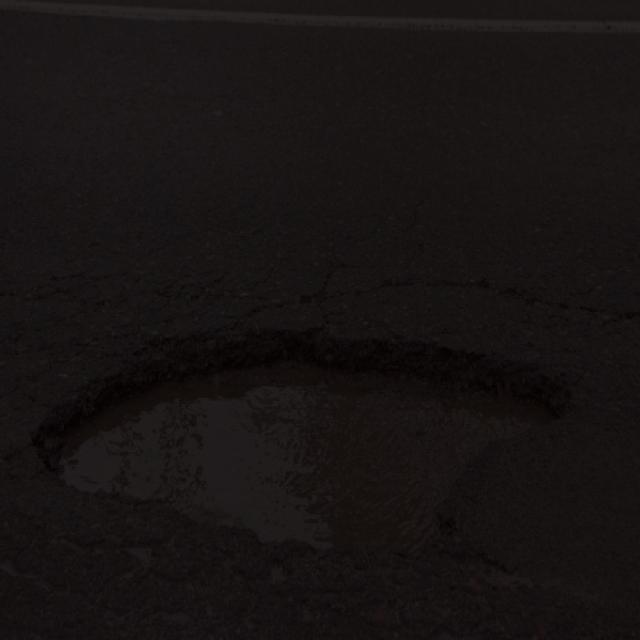Pothole: (23, 335, 567, 581)
